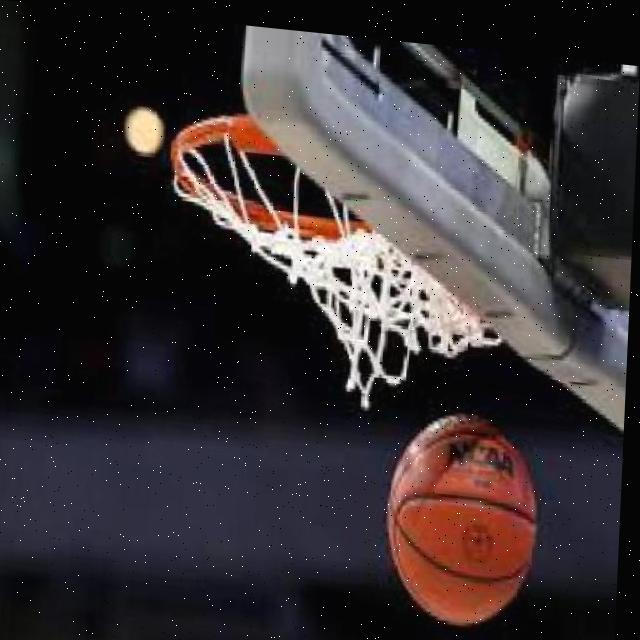Basketball: (379, 405, 536, 629)
